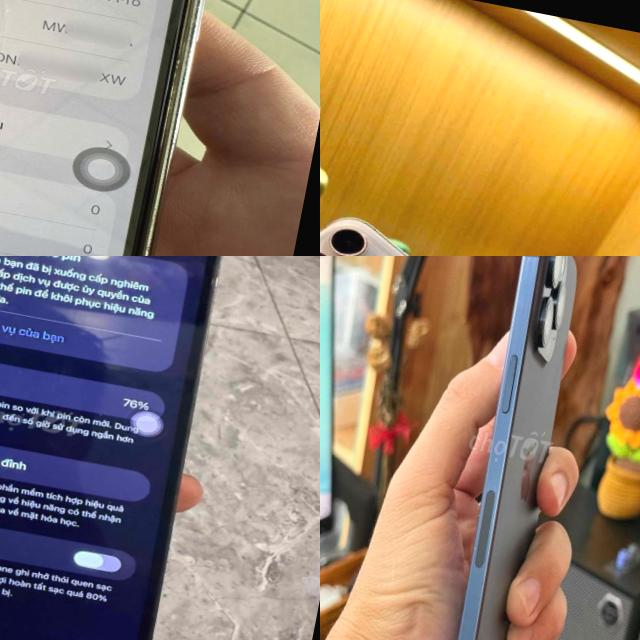gen_11: (0, 0, 260, 256)
gen_14: (0, 256, 281, 640)
gen_15: (398, 256, 621, 640)
scratch: (471, 542, 479, 552), (476, 508, 482, 520), (481, 562, 486, 568)
